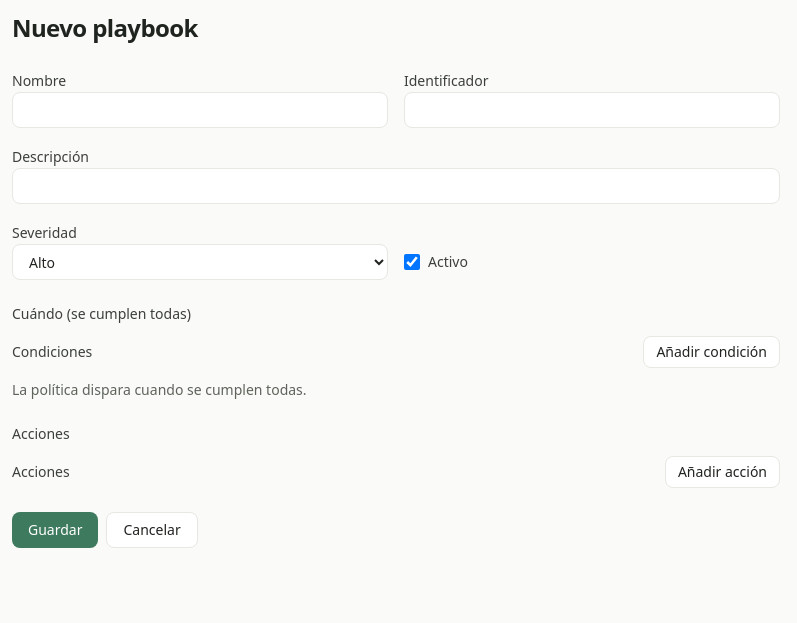
Scenario: sin condiciones ni acciones el formulario no llega a la API
Type "Vacío" into the field labelled "Nombre" at (200, 110), box [12,92,388,128]
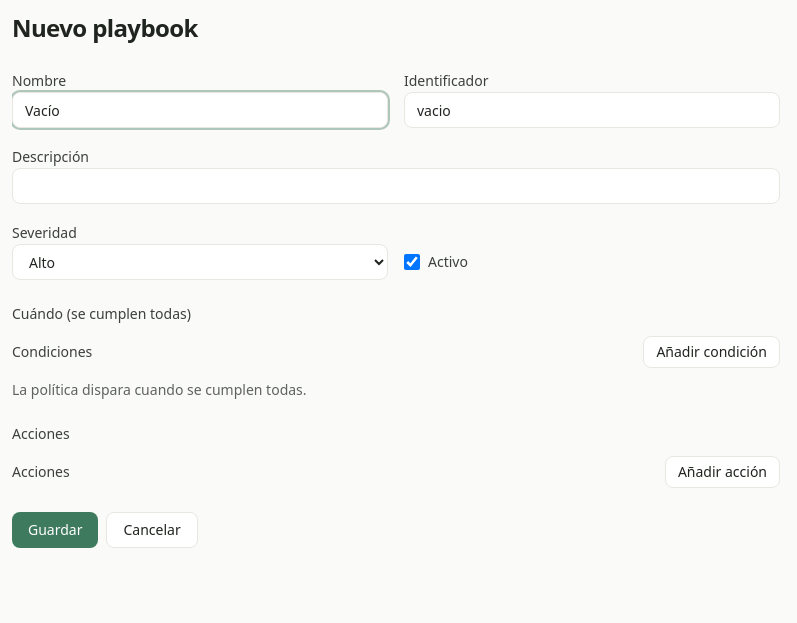
Click the button "Guardar" at (55, 530), box [12,512,98,548]
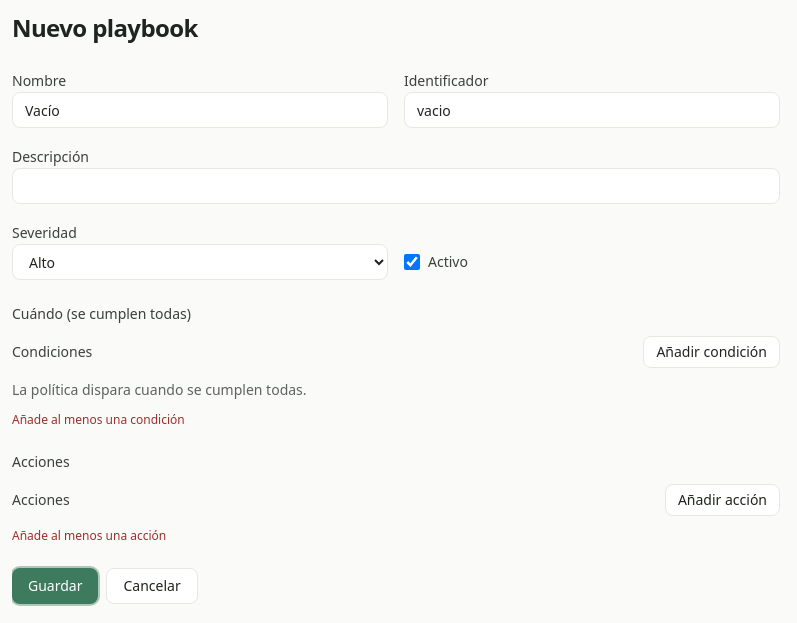
expect the text "Añade al menos una condición" is shown: met, box [12,411,185,428]
expect the text "Añade al menos una acción" is shown: met, box [12,527,166,544]
